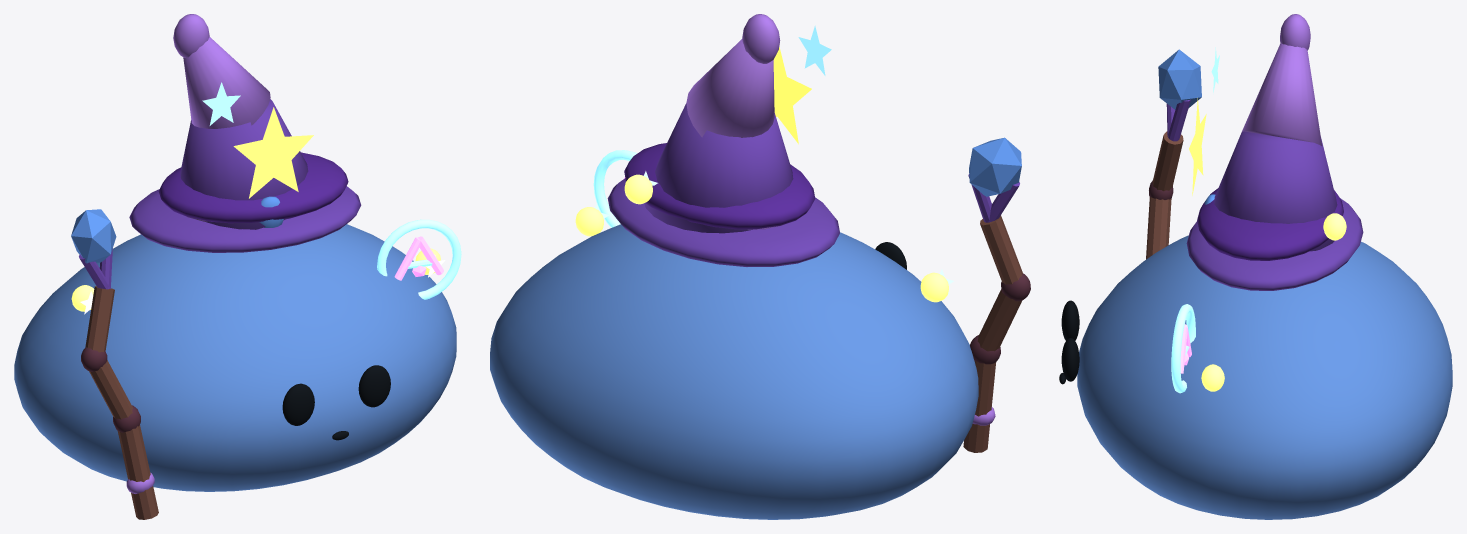
File: archmage-slime.glb
3 views of the same model, side by side, from view 1: azimuth 30°, elevation 25°; view 2: azimuth 150°, elevation 25°; view 3: azimuth 270°, elevation 25° (orthographic). The views are drawn at different scales.
Visible parts, largest first — view 1: Body, MageCap_Brim, MageCap_Lower, ArchmageHat_Mantle, MageCap_Upper, ArchmageHat_Star, Wand_Shaft_1, Wand_Crystal, MageRune_Ring, Wand_Shaft_3, Wand_Shaft_2, MageCap_Tip (+3 smaller); view 2: Body, MageCap_Lower, MageCap_Brim, MageCap_Upper, ArchmageHat_Mantle, Wand_Crystal, ArchmageHat_Star, Wand_Shaft_3, Wand_Shaft_1, MageCap_Tip, Wand_Shaft_2, MageRune_Ring (+4 smaller); view 3: Body, MageCap_Lower, MageCap_Brim, MageCap_Upper, ArchmageHat_Mantle, Wand_Crystal, Wand_Shaft_2, MageRune_Ring, Wand_Shaft_3, MageCap_Tip, ArchmageHat_Star, Eye_R (+4 smaller).
Boxes of the visible parts, box(x1,y1,x2,y2) form: Body: box(14, 224, 456, 491); MageCap_Brim: box(129, 186, 361, 252); MageCap_Lower: box(180, 99, 308, 229); ArchmageHat_Mantle: box(158, 152, 348, 223); MageCap_Upper: box(183, 37, 270, 128); ArchmageHat_Star: box(233, 107, 313, 198); Wand_Shaft_1: box(117, 425, 158, 519); Wand_Crystal: box(71, 209, 116, 263); MageRune_Ring: box(377, 219, 461, 299); Wand_Shaft_3: box(85, 286, 114, 352); Wand_Shaft_2: box(89, 360, 132, 419); MageCap_Tip: box(173, 14, 209, 57); Body: box(490, 224, 978, 519); MageCap_Lower: box(644, 103, 793, 233); MageCap_Brim: box(607, 178, 839, 266); MageCap_Upper: box(686, 39, 774, 137); ArchmageHat_Mantle: box(624, 143, 815, 229); Wand_Crystal: box(969, 137, 1021, 196); ArchmageHat_Star: box(773, 47, 811, 144); Wand_Shaft_3: box(980, 215, 1022, 284); Wand_Shaft_1: box(963, 361, 996, 452); MageCap_Tip: box(742, 14, 780, 63); Wand_Shaft_2: box(977, 289, 1022, 351); MageRune_Ring: box(593, 150, 636, 227); Body: box(1077, 235, 1452, 519); MageCap_Lower: box(1214, 131, 1337, 251); MageCap_Brim: box(1186, 198, 1363, 290); MageCap_Upper: box(1242, 43, 1322, 145); ArchmageHat_Mantle: box(1197, 188, 1343, 260); Wand_Crystal: box(1158, 49, 1201, 109); Wand_Shaft_2: box(1146, 197, 1171, 259); MageRune_Ring: box(1171, 304, 1195, 393); Wand_Shaft_3: box(1152, 131, 1183, 191); MageCap_Tip: box(1280, 14, 1310, 50); ArchmageHat_Star: box(1189, 98, 1206, 195); Eye_R: box(1061, 338, 1079, 381).
Bounding box in the file's own units: 2.45 × 2.38 × 2.
